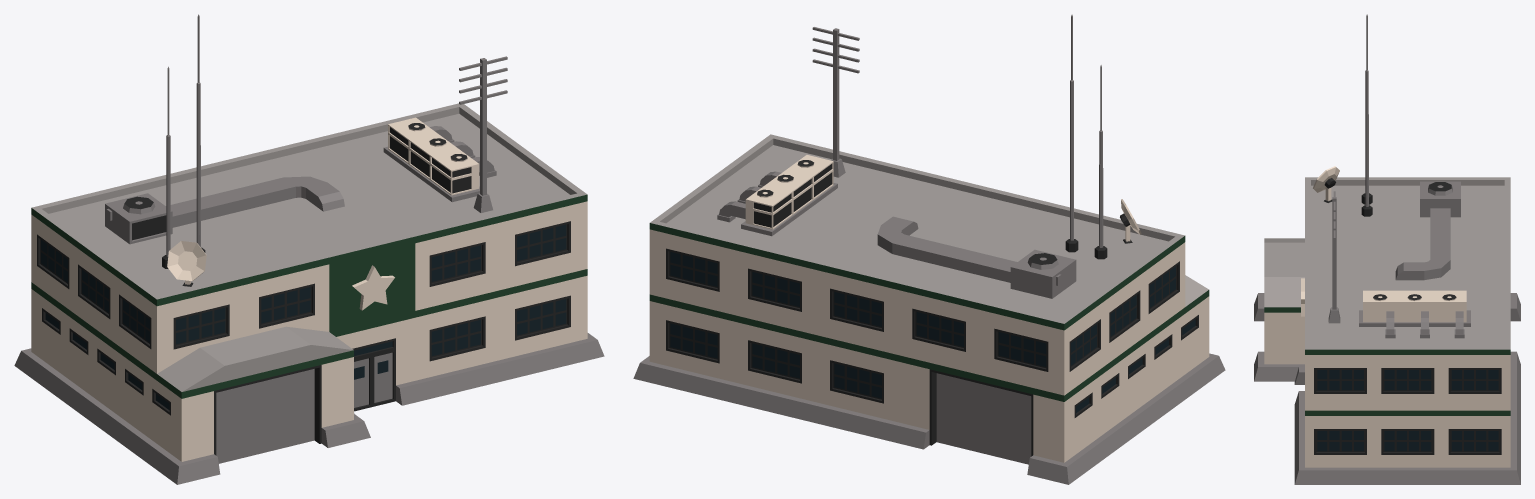
The model's file is military-headquarters.glb.
3 views of the same model, side by side, from view 1: azimuth 30°, elevation 25°; view 2: azimuth 150°, elevation 25°; view 3: azimuth 270°, elevation 25° (orthographic). The views are drawn at different scales.
Parts seen in each view (by area): view 1: military-headquarters; view 2: military-headquarters; view 3: military-headquarters.
Part boxes in pixels (left/top/right/bottom): military-headquarters: left=14, top=14, right=604, bottom=484; military-headquarters: left=633, top=14, right=1225, bottom=484; military-headquarters: left=1254, top=14, right=1520, bottom=484.
Size of the model in its own units: 21 by 17.68 by 13.1.
1 material, 1 textured.
